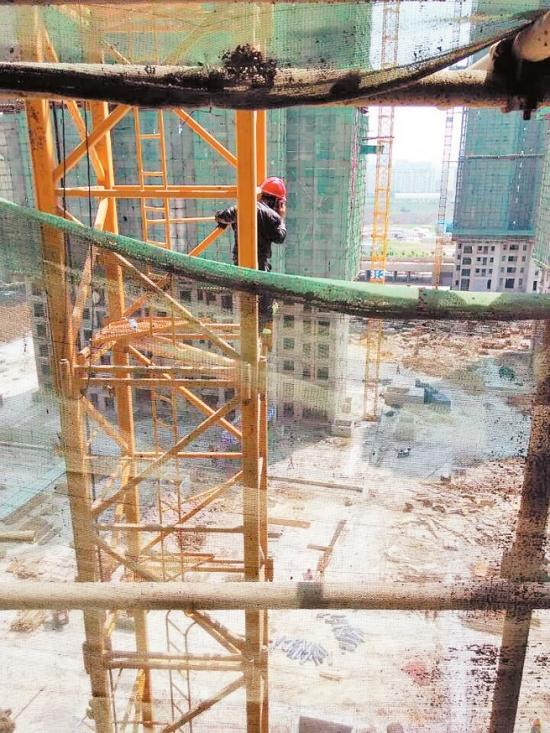helmet: (258, 177, 292, 203)
